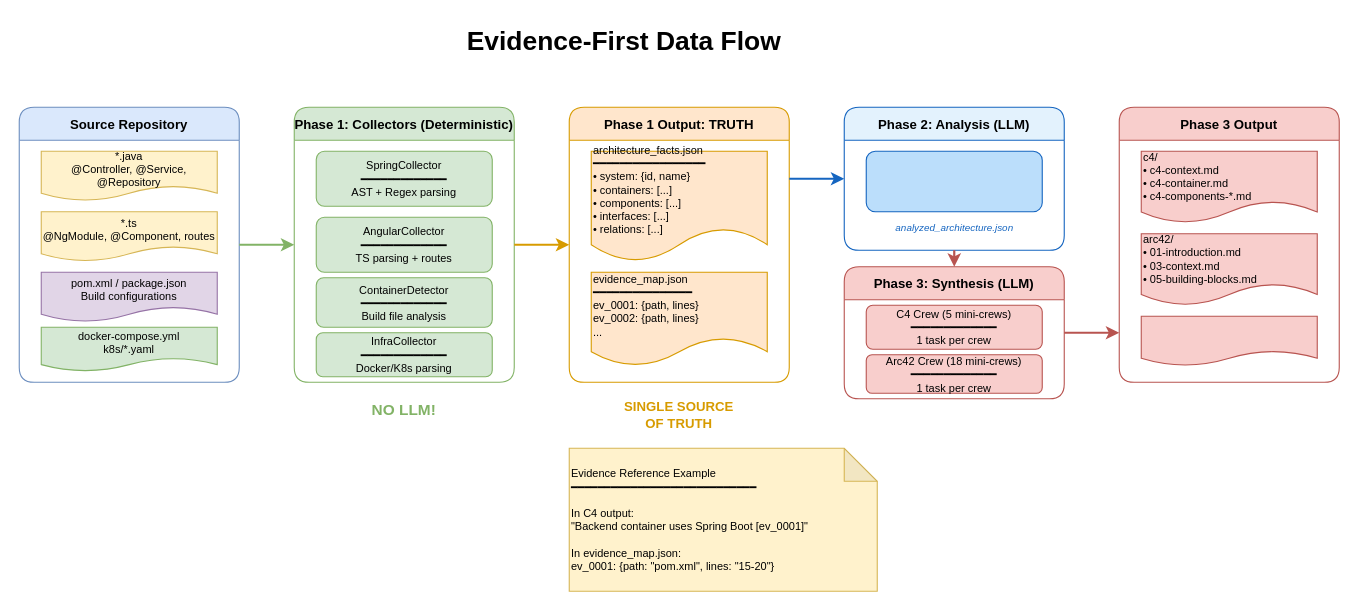
The diagram is 1359 pixels wide and 611 high, and some of its shapes have lost their labels. Each missing label, with the centre of its shape:
"5 Mini-Crews ━━━━━━━━━━━━━ tech, domain, workflow, quality, synthesis" goes at point (953, 181).
"quality/ • synthesis-report.md" goes at point (1228, 340).
